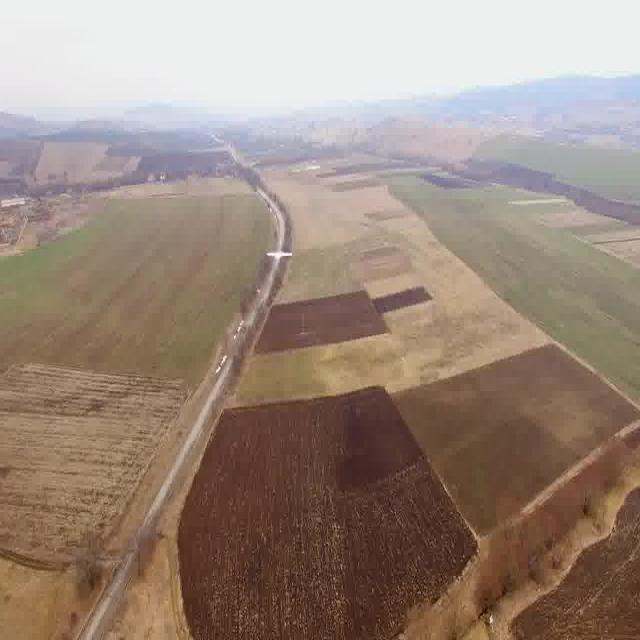iha: (258, 242, 295, 271)
